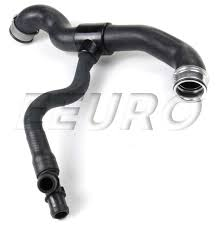radiator_hose: (8, 4, 207, 101)
